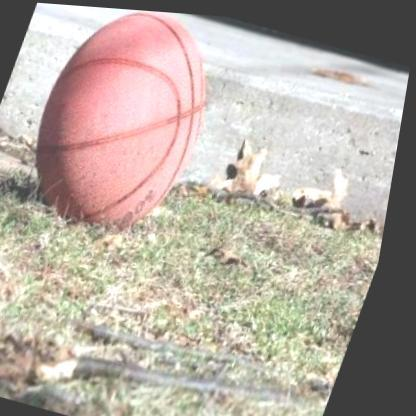basketball: (7, 2, 243, 250)
